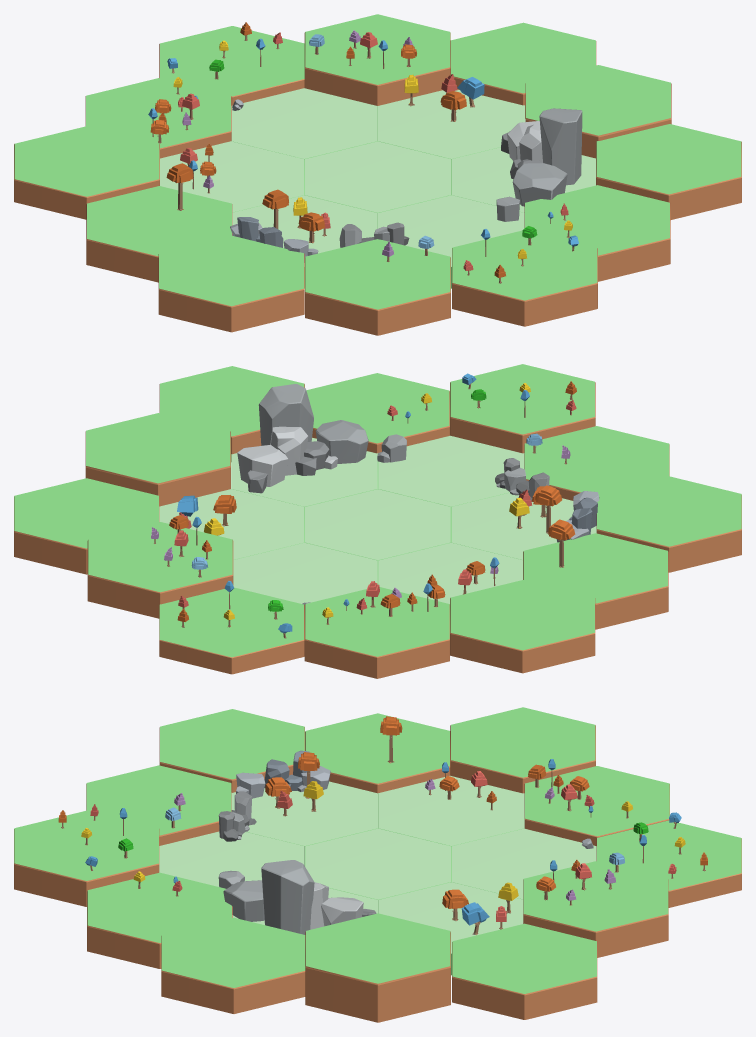
The model's file is Arena_01.fbx.
The picture shows the model from 3 angles, top to bottom: view 1: azimuth 30°, elevation 25°; view 2: azimuth 150°, elevation 25°; view 3: azimuth 270°, elevation 25°; orthographic projection.
Parts seen in each view (by area): view 1: Arena_01; view 2: Arena_01; view 3: Arena_01.
Boxes of the visible parts, x1,y1,x2,y2 form: Arena_01: (14,14,741,335); Arena_01: (14,364,741,678); Arena_01: (14,707,741,1022).
Size of the model in its own units: 56.31 by 8.12 by 60.83.
